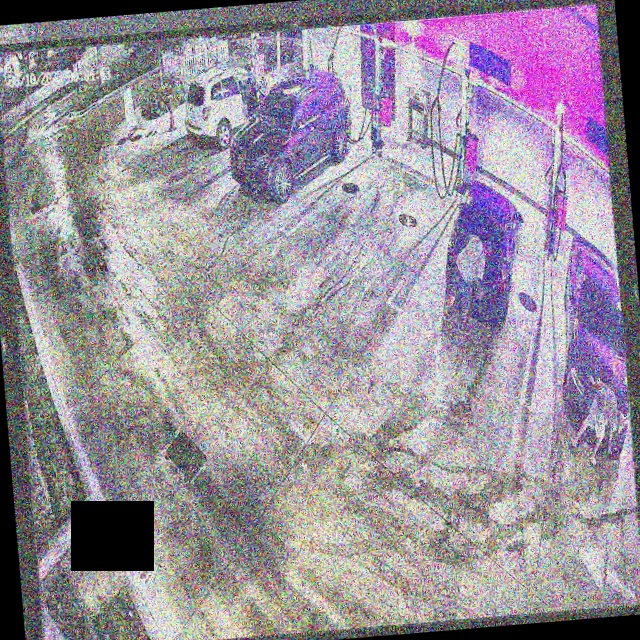Car: (223, 66, 358, 204), (437, 176, 531, 326), (180, 61, 282, 146)
